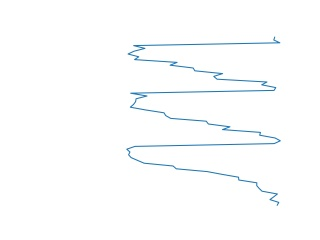distributaryMouthBar: (123, 34, 289, 207)
